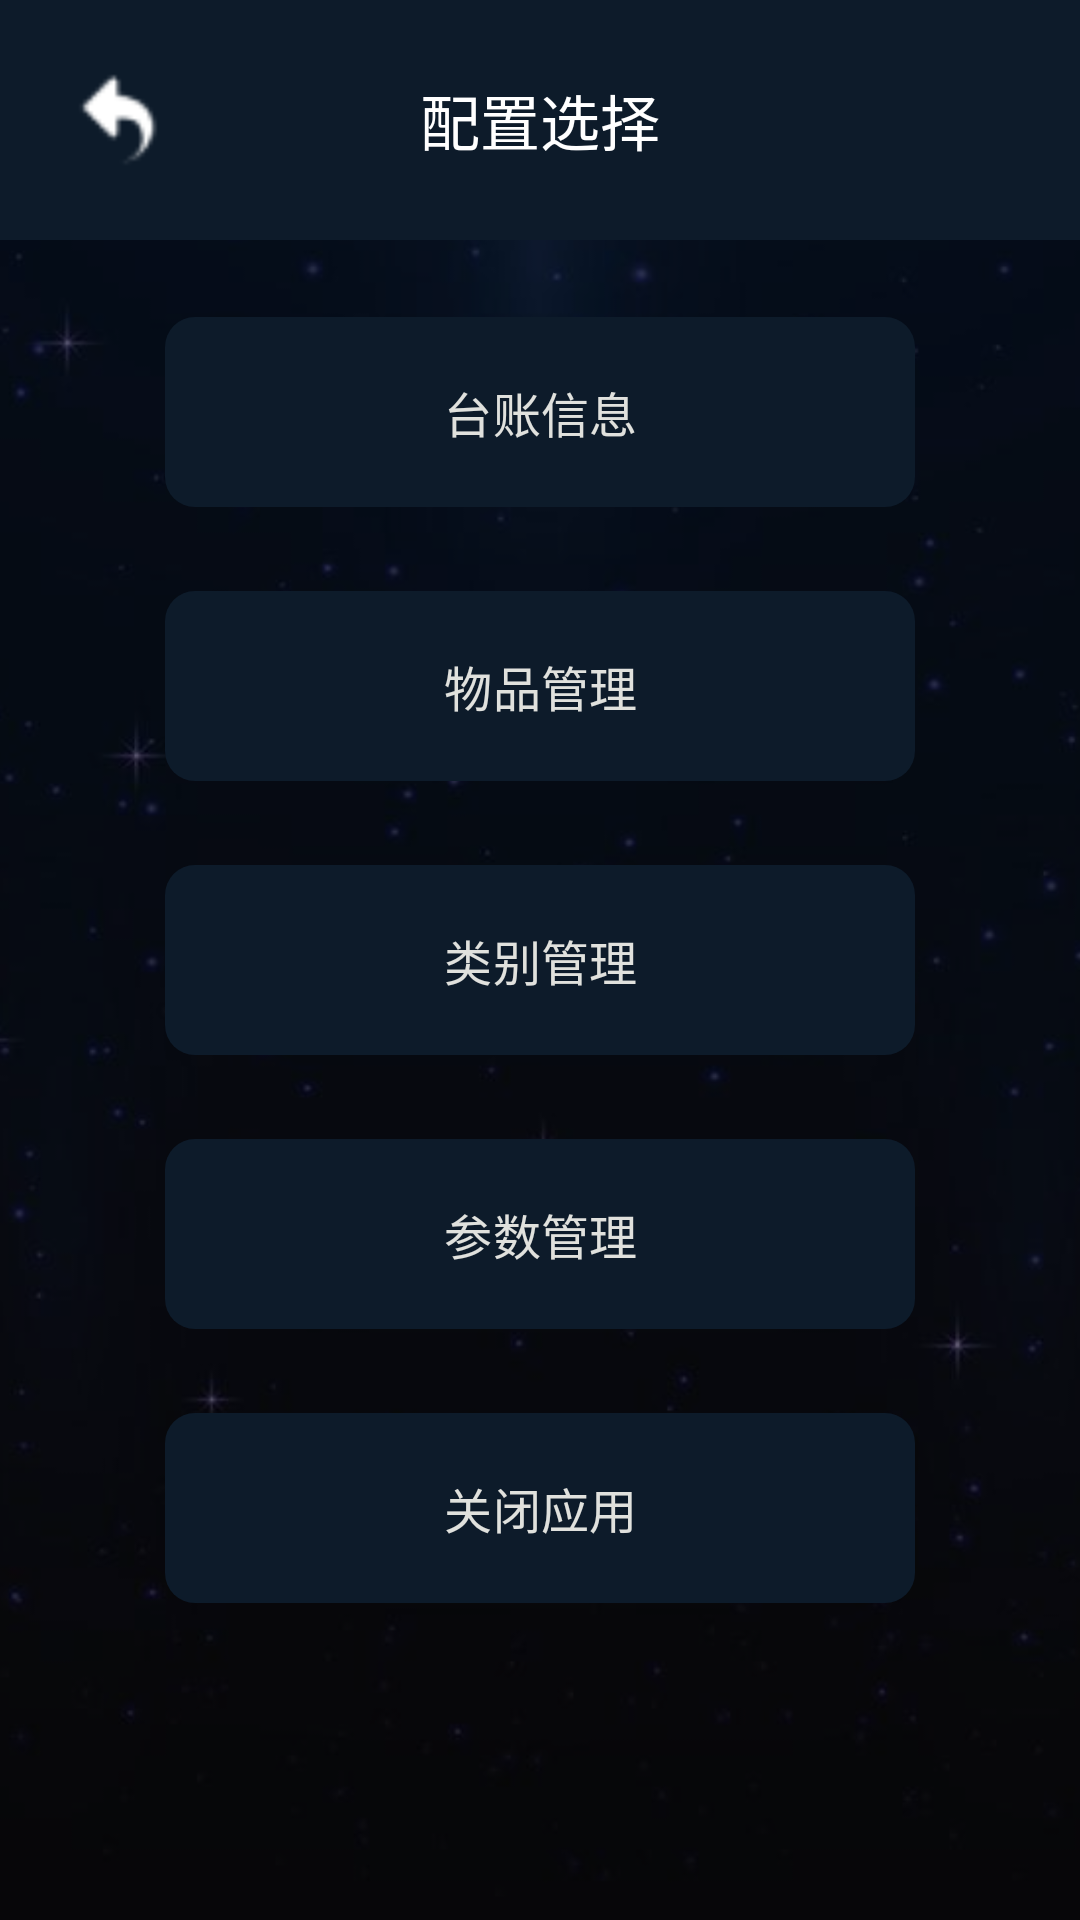

Locate icon controls on the screen. Image size 1080x1920, boxes as {"x1": x1, "y1": y1, "x2": x2, "y2": y2}.
返回: {"x1": 82, "y1": 75, "x2": 156, "y2": 160}
